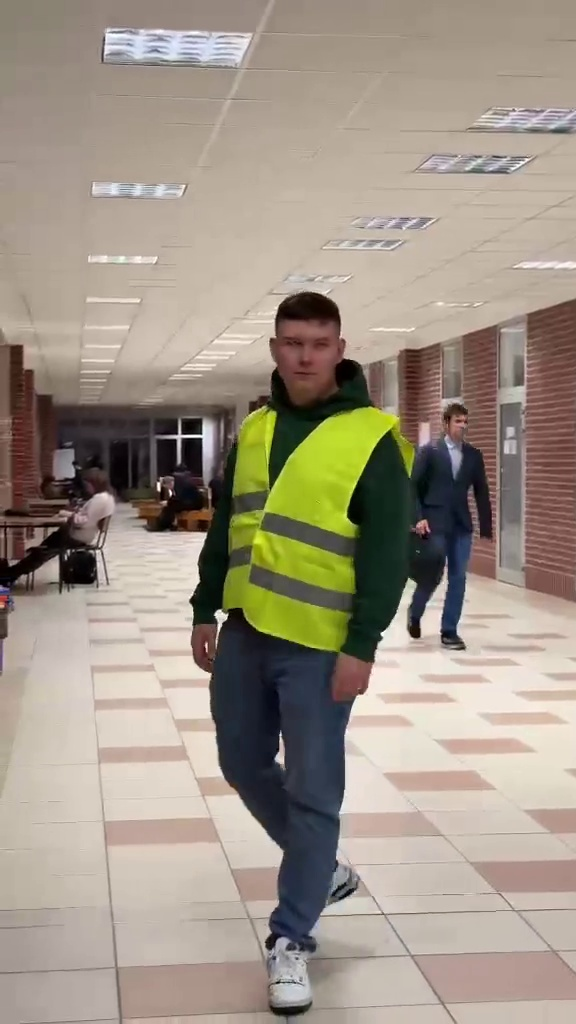no vest: (416, 392, 498, 658), (0, 459, 117, 583)
vest: (169, 276, 412, 1010)
